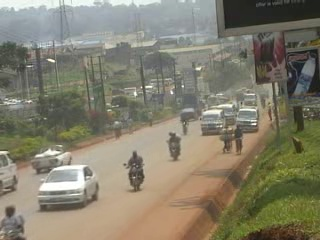Car: (34, 161, 101, 210), (179, 106, 199, 121)
Motorcycle: (122, 160, 145, 192), (0, 224, 27, 239), (166, 137, 182, 161)
